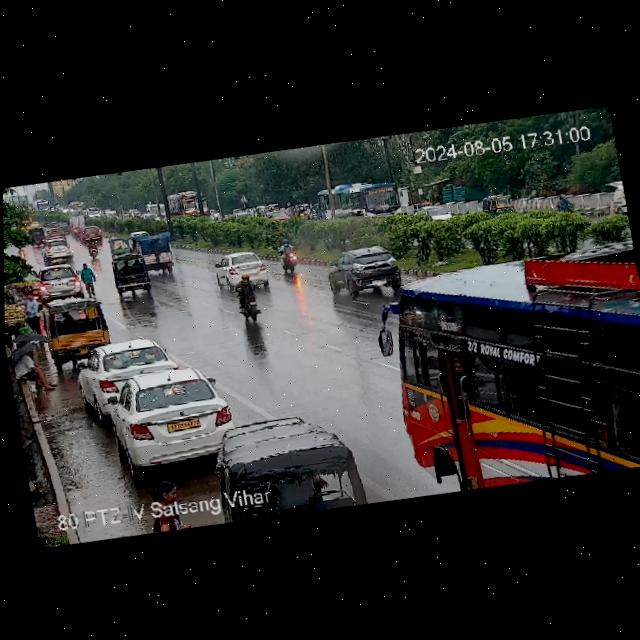bus: (361, 230, 640, 504), (305, 172, 406, 231), (69, 200, 87, 215), (35, 200, 53, 215)
car: (209, 407, 360, 496), (112, 366, 232, 474), (68, 330, 191, 420), (39, 293, 113, 372), (325, 241, 406, 299), (109, 249, 157, 301), (213, 246, 269, 290), (33, 258, 84, 304), (38, 234, 74, 264), (481, 192, 518, 216), (79, 223, 103, 246), (106, 236, 132, 257), (70, 223, 86, 238), (48, 227, 67, 238)
motorcycle: (233, 270, 263, 324), (276, 236, 298, 275), (552, 190, 579, 214)
person: (5, 337, 55, 400), (21, 289, 44, 337), (78, 258, 99, 301), (151, 477, 188, 500)
truck: (129, 223, 177, 280), (161, 186, 212, 224), (69, 211, 86, 230)
